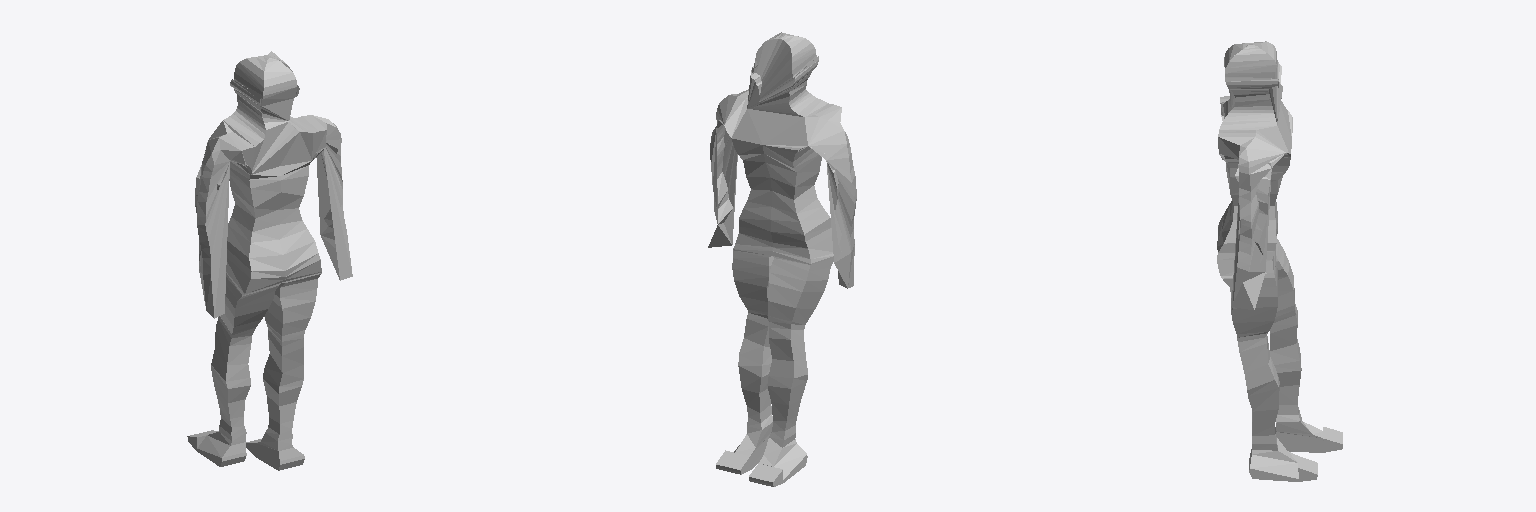
File: woman_000039.obj
The picture shows the model from 3 angles: view 1: azimuth 30°, elevation 25°; view 2: azimuth 150°, elevation 25°; view 3: azimuth 270°, elevation 25°; orthographic projection.
Parts seen in each view (by area): view 1: Cube_Cube.001; view 2: Cube_Cube.001; view 3: Cube_Cube.001.
Part boxes in pixels (bbox=[...]): Cube_Cube.001: bbox=[187, 51, 352, 470]; Cube_Cube.001: bbox=[708, 32, 856, 486]; Cube_Cube.001: bbox=[1217, 41, 1342, 481].
Size of the model in its own units: 3.62 by 9.96 by 2.73.